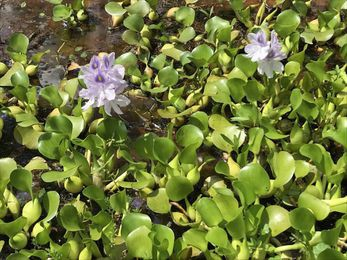water_hyacinth: (0, 0, 347, 259)
